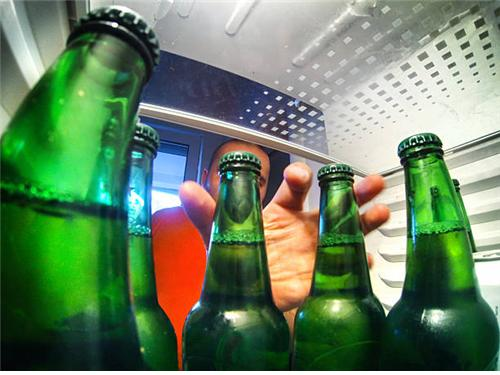alcohol: (0, 6, 164, 370), (387, 133, 497, 375), (180, 152, 291, 375), (291, 164, 391, 375), (94, 121, 177, 373)
